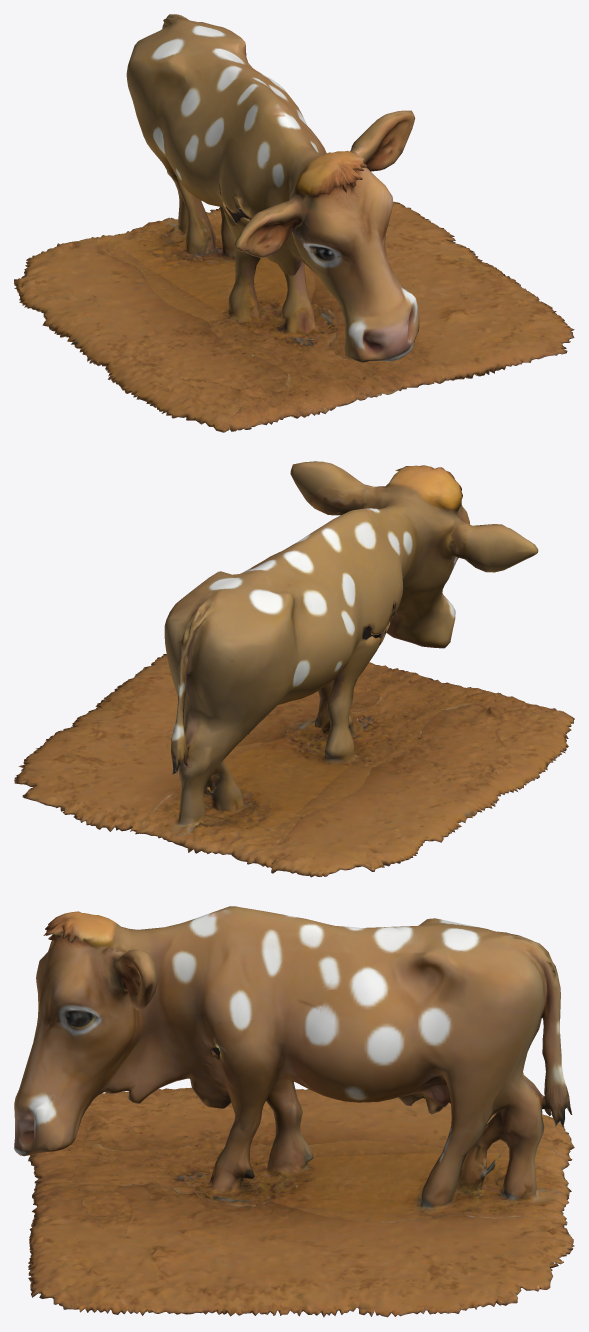
3 renders of one model, top to bottom at view 1: azimuth 30°, elevation 25°; view 2: azimuth 150°, elevation 25°; view 3: azimuth 270°, elevation 25°, orthographic. The views are drawn at different scales.
Bounding box in the file's own units: 1.92 × 1.09 × 1.99.
Materials: 1 (1 with a texture image).
